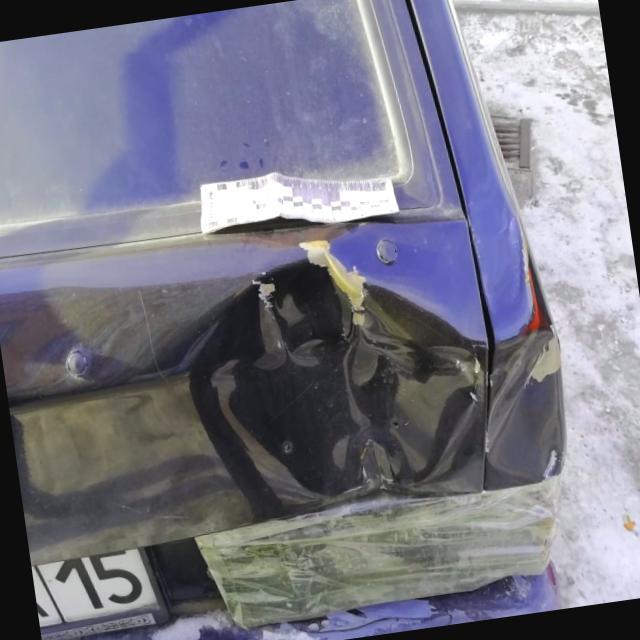Cabossage: (151, 233, 496, 544), (8, 389, 103, 554)
Phare abime: (181, 467, 596, 640)
Rayure: (291, 221, 374, 337)
